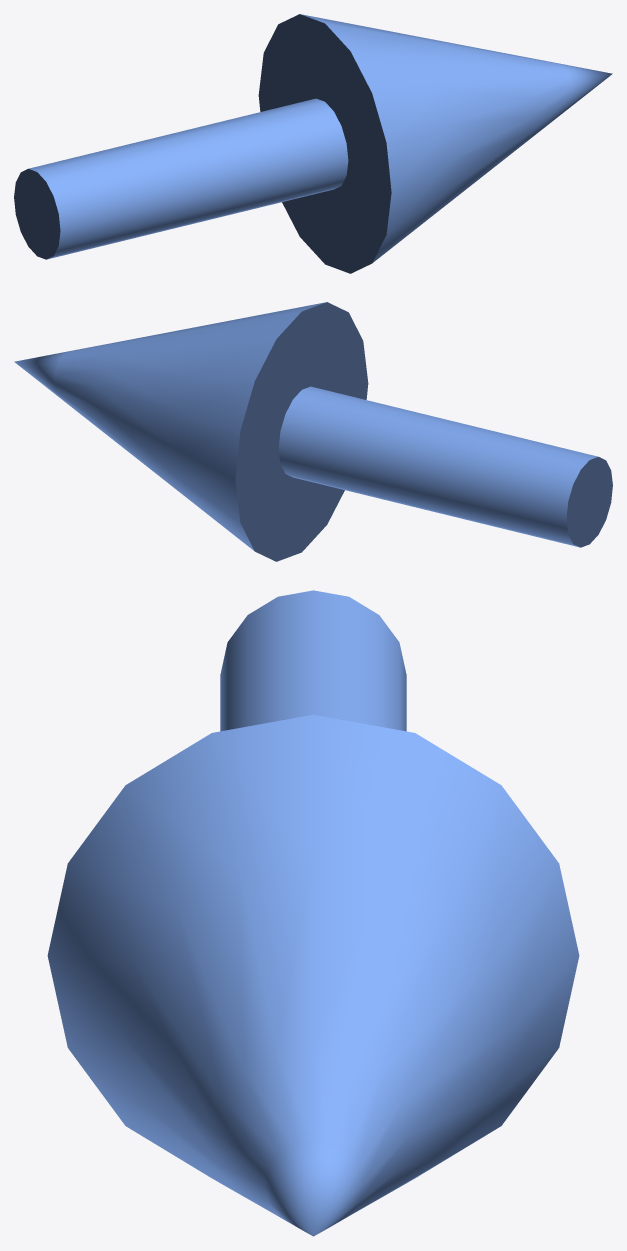
The model's file is 3d_arrow_blue_a.fbx.
The picture shows the model from 3 angles, top to bottom: view 1: azimuth 30°, elevation 25°; view 2: azimuth 150°, elevation 25°; view 3: azimuth 270°, elevation 25°; orthographic projection. The views are drawn at different scales.
Parts seen in each view (by area): view 1: 3d_arrow_blue_a; view 2: 3d_arrow_blue_a; view 3: 3d_arrow_blue_a.
Part boxes in pixels (x1=…): 3d_arrow_blue_a: x1=14, y1=14, x2=612, y2=273; 3d_arrow_blue_a: x1=14, y1=302, x2=612, y2=561; 3d_arrow_blue_a: x1=47, y1=590, x2=579, y2=1236.
Size of the model in its own units: 1 by 0.4 by 0.4.
